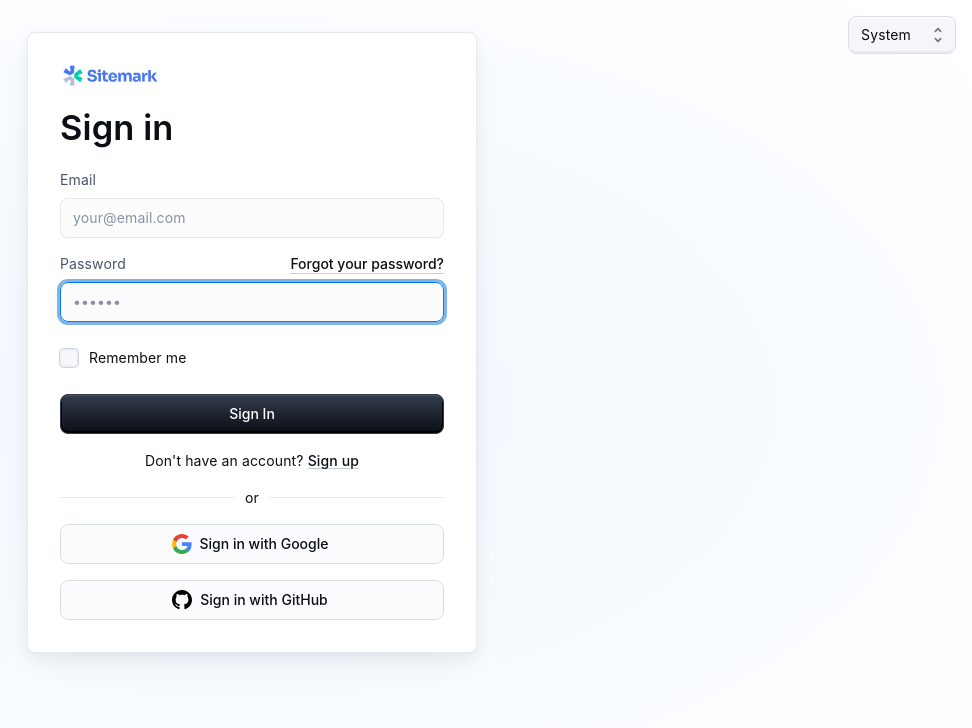
Test case: SignIn Component › validates email and password inputs
The width and height of the screenshot is (972, 728).
Click the button "Sign In". click: (252, 414)
box: [60, 394, 444, 434]
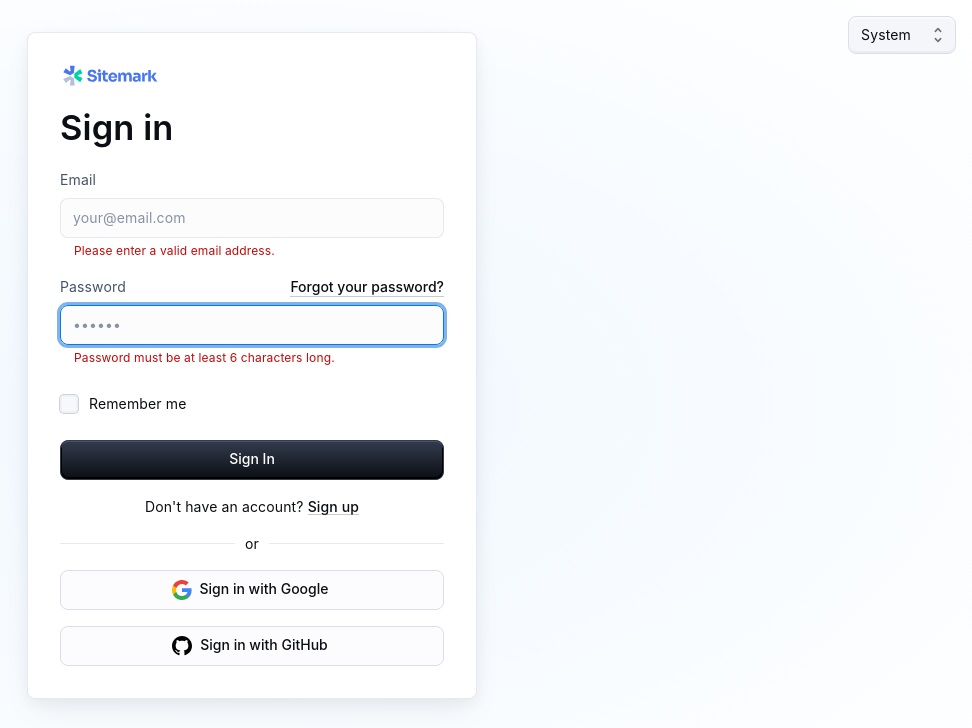
Expected: the text "Please enter a valid email address." is shown, [74, 243, 275, 258]
Expected: the text "Password must be at least 6 characters long." is shown, [74, 350, 335, 365]
Type "tests@example.com" into the field labelled "Email". click: (252, 218)
box: [73, 208, 431, 228]
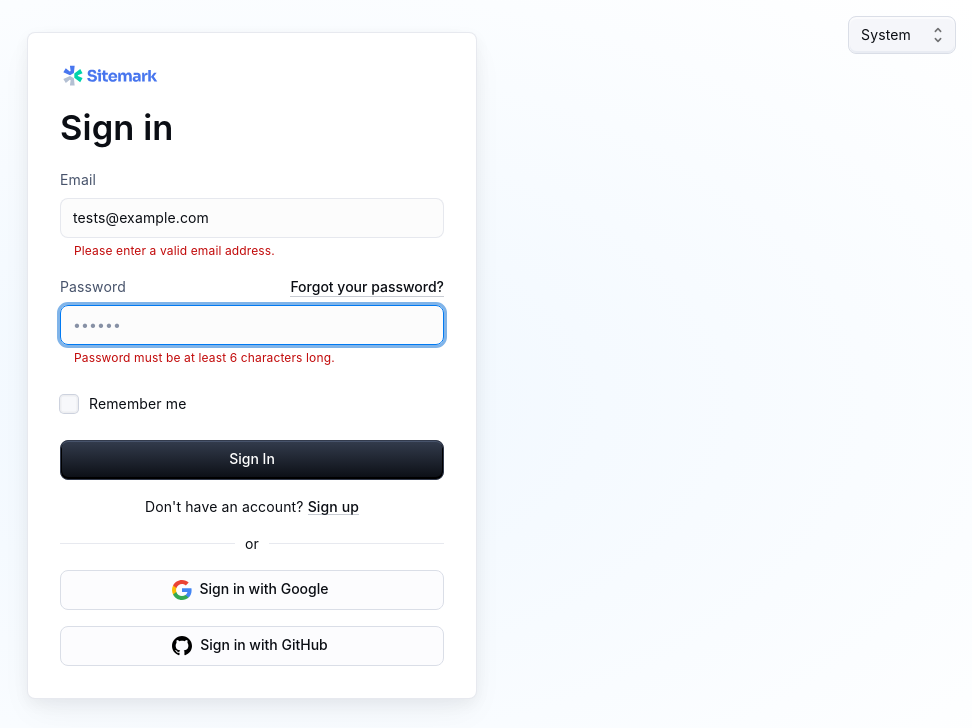
Type "123456" into the password field labelled "Password". click: (252, 325)
box: [73, 315, 431, 335]
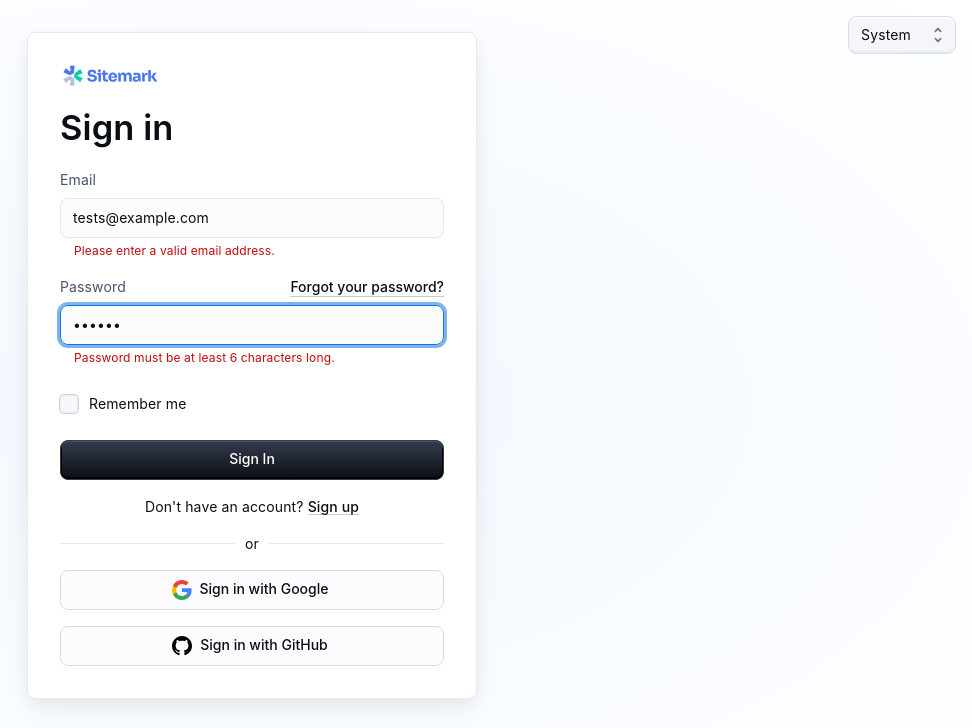
Click the button "Sign In". click: (252, 460)
box: [60, 440, 444, 480]
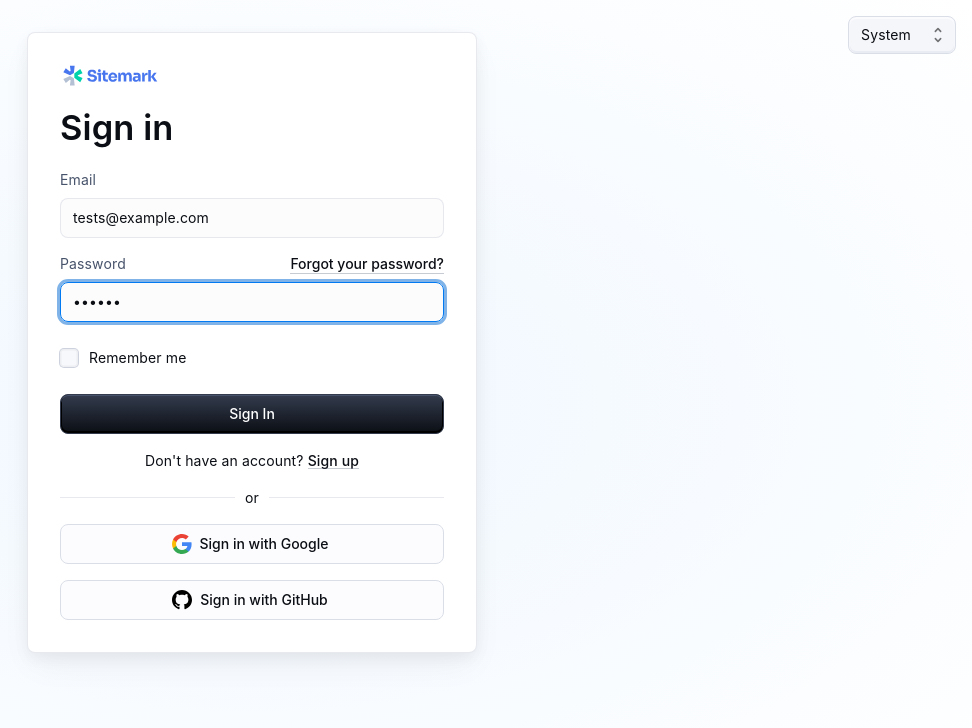
Expected: the text "Please enter a valid email address" is gone
Expected: the text "Password must be at least 6 characters long" is gone
